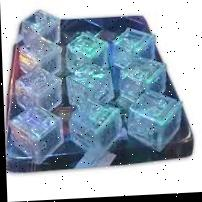cube: (125, 94, 183, 153), (66, 100, 121, 157), (10, 107, 62, 164), (13, 69, 60, 116)
